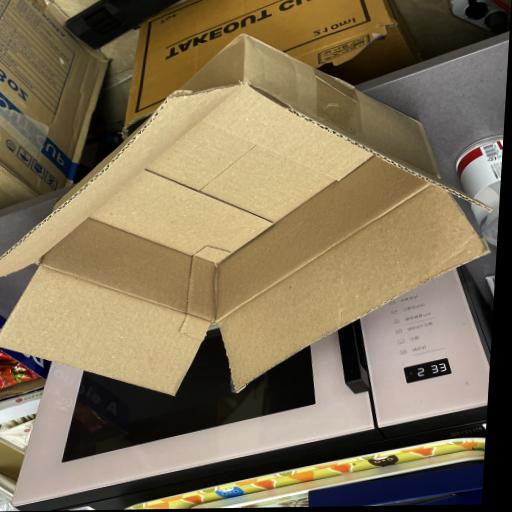box: (1, 33, 493, 398)
opened: (2, 79, 493, 398)
